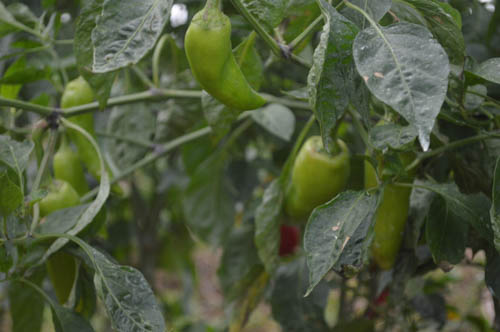ChiliPepper: (364, 137, 420, 267), (184, 20, 264, 110), (60, 85, 125, 188), (280, 143, 353, 222), (33, 187, 81, 297), (54, 156, 104, 236)
